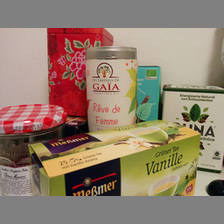tea: (29, 118, 202, 195)
